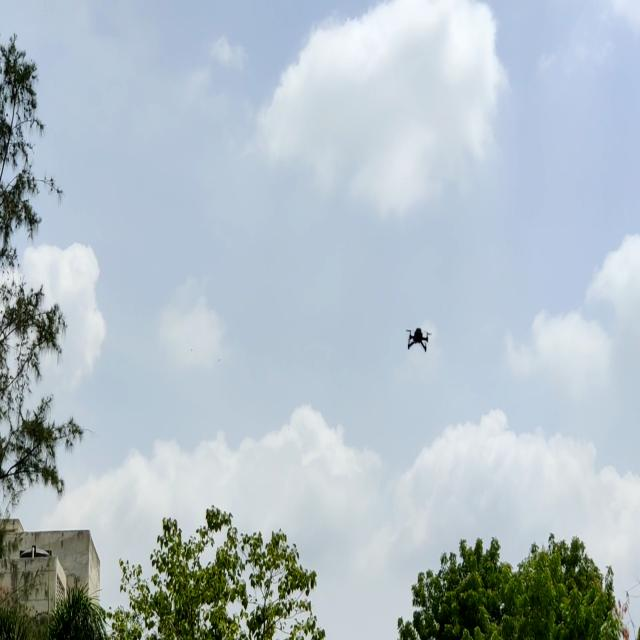drone: (403, 322, 435, 358)
